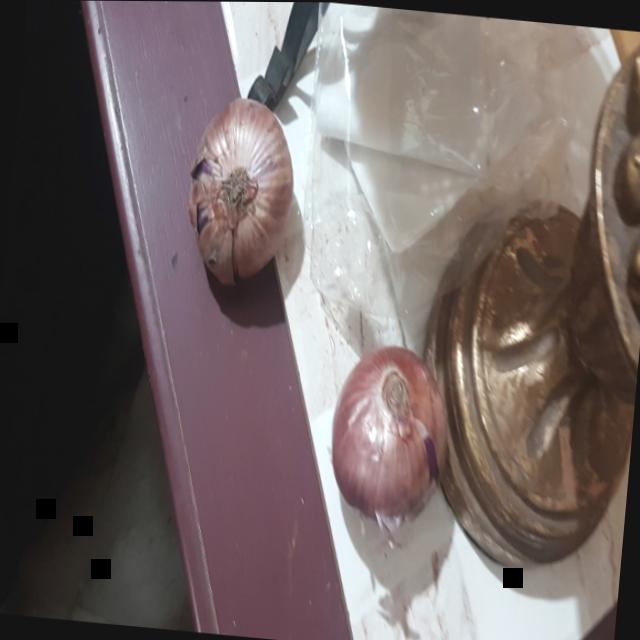onion: (315, 339, 462, 529), (172, 92, 304, 293)
